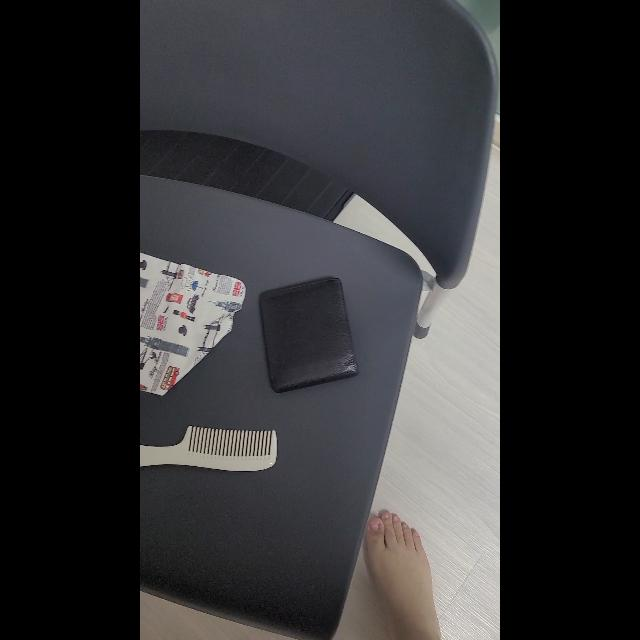COMB: (140, 426, 278, 472)
Glasses cleaning cloth: (140, 252, 246, 396)
WALLET: (259, 276, 359, 394)
